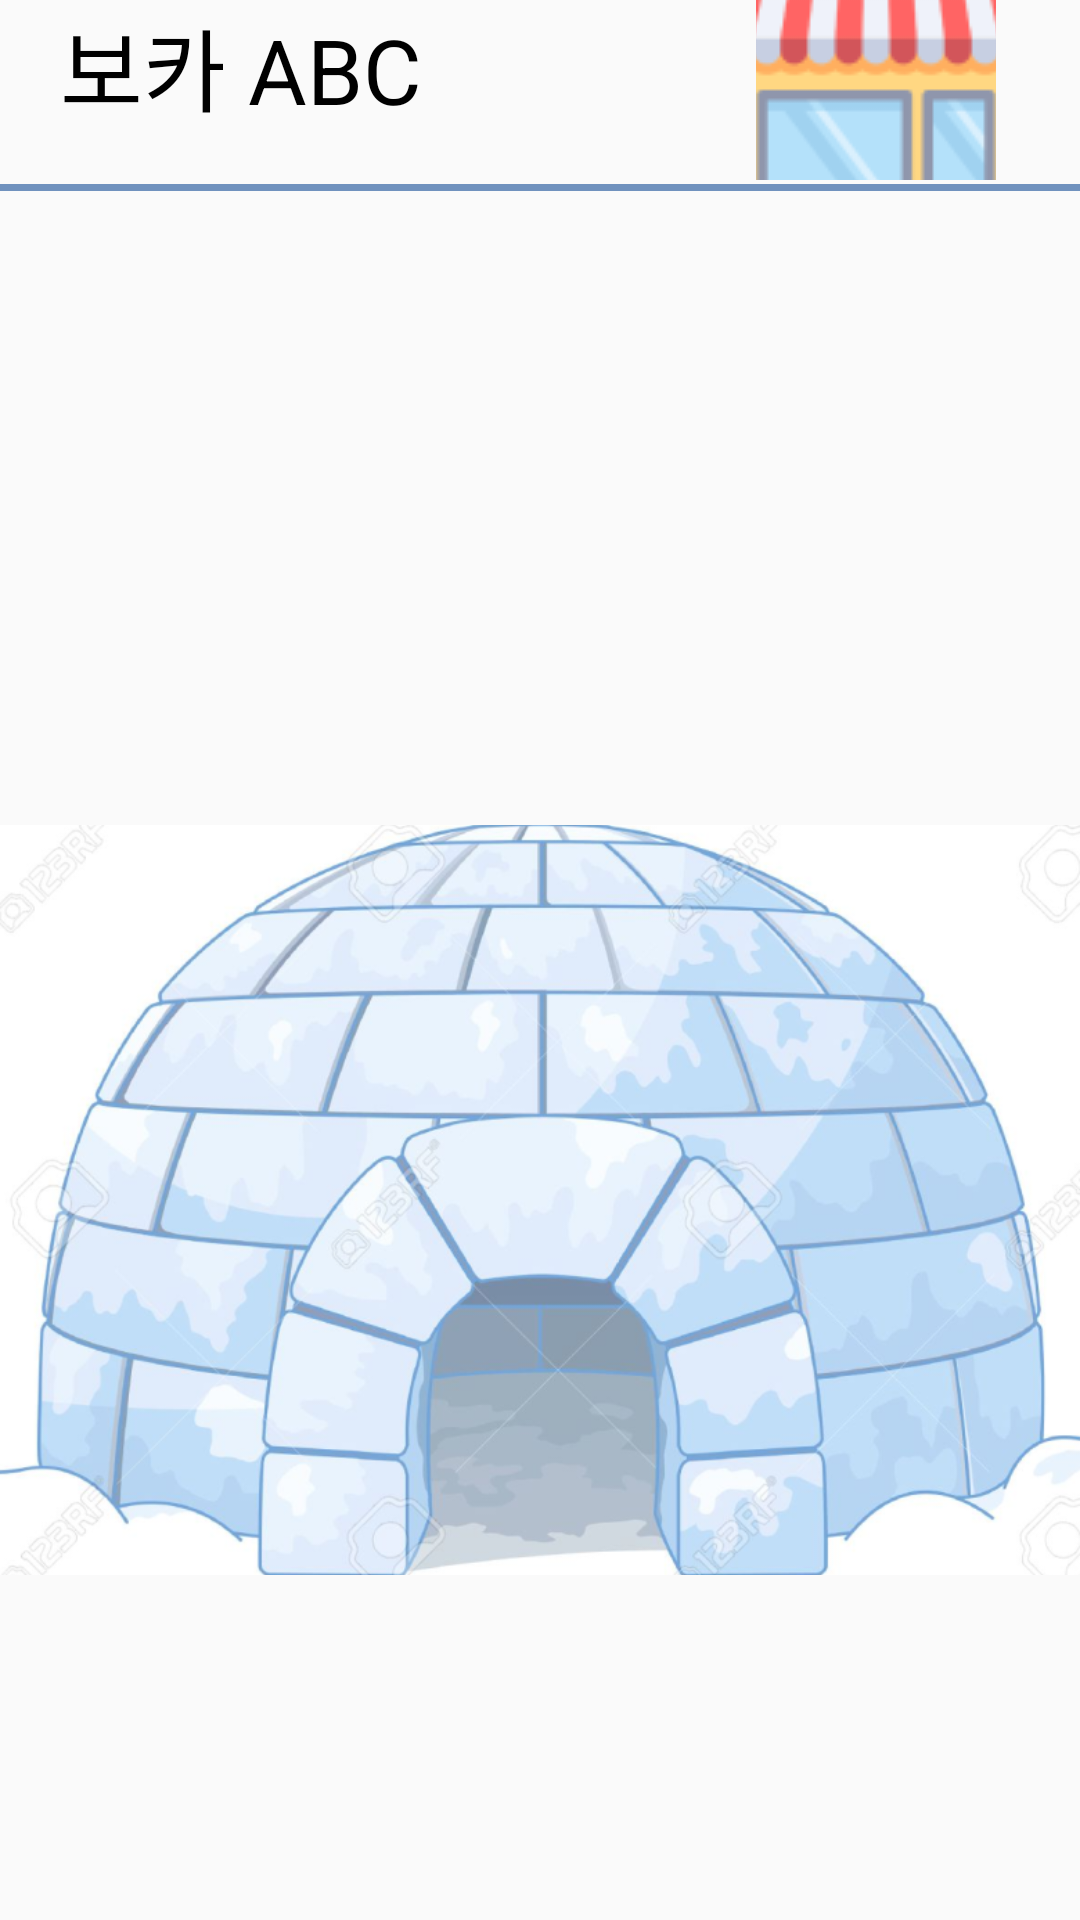

Where to tap for icons on this 1080x1920 app screen, as [x,y]:
shop: [876,90]
